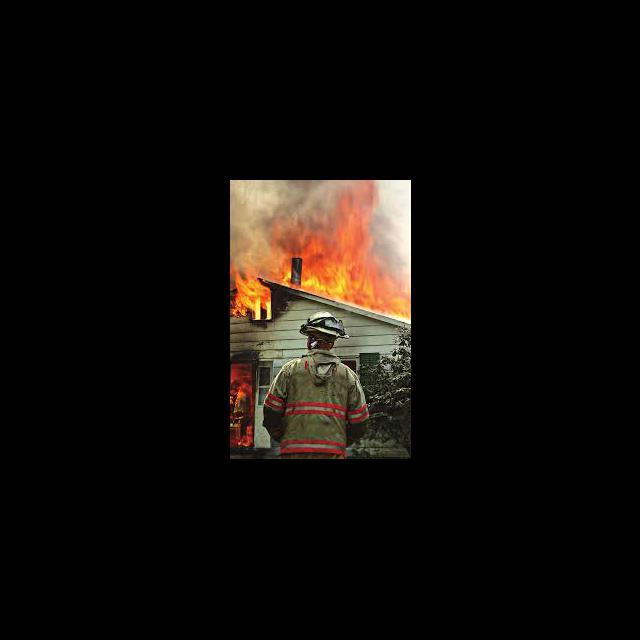Fire: (329, 182, 410, 322), (270, 218, 327, 296), (230, 262, 272, 322), (230, 362, 252, 397), (230, 422, 252, 448)
